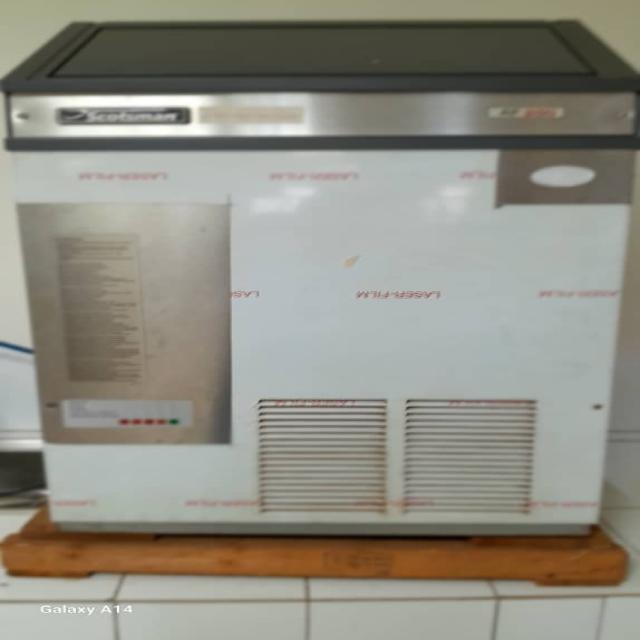Ice Maker: (4, 17, 638, 536)
